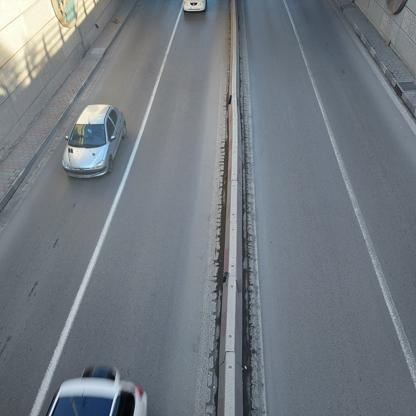Car: (60, 101, 129, 180), (46, 364, 148, 416), (185, 0, 212, 14)
